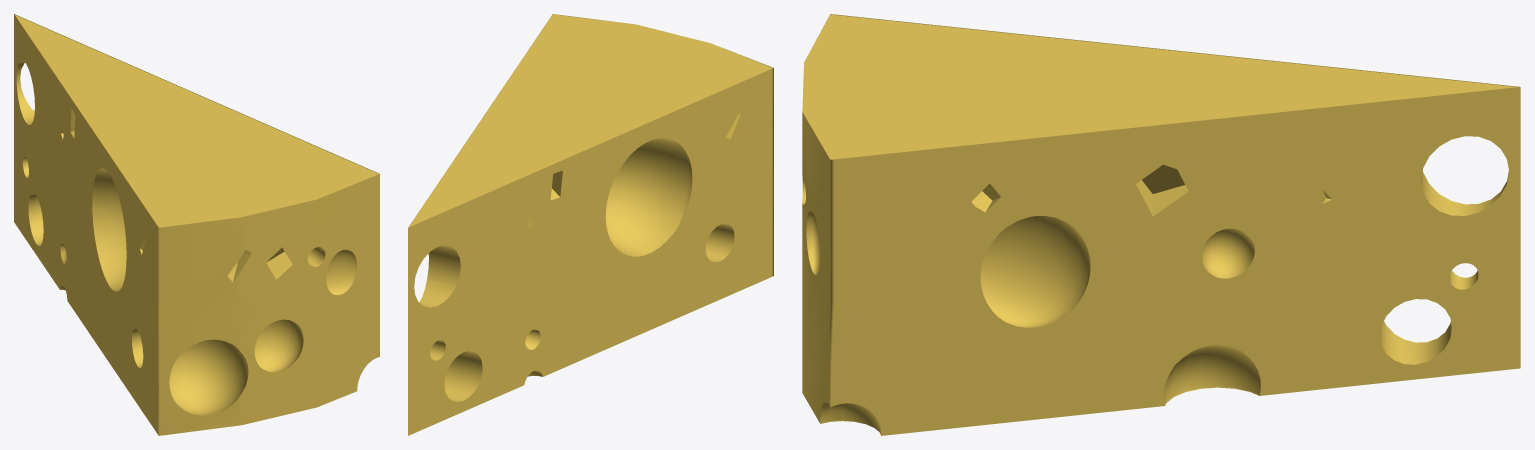
Rendered from CHEESE.fbx.
3 views of the same model, side by side, from view 1: azimuth 30°, elevation 25°; view 2: azimuth 150°, elevation 25°; view 3: azimuth 270°, elevation 25° (orthographic). The views are drawn at different scales.
Visible parts, largest first — view 1: loftedSurface28; view 2: loftedSurface28; view 3: loftedSurface28.
Boxes of the visible parts, left/top/right/bottom form: loftedSurface28: left=14, top=14, right=379, bottom=435; loftedSurface28: left=408, top=14, right=773, bottom=435; loftedSurface28: left=802, top=14, right=1520, bottom=435.
Bounding box in the file's own units: 2 × 1.8 × 4.16.
